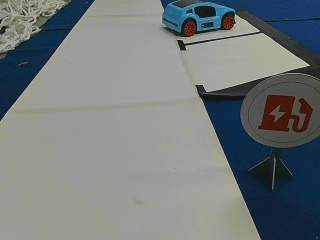battery: (241, 74, 319, 149)
car: (162, 3, 236, 36)
